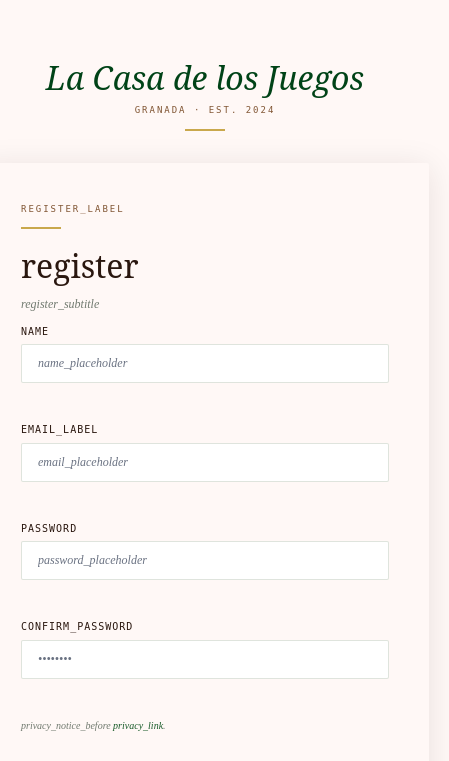
components/auth/RegisterForm.tsx › muestra error si las contraseñas no coinciden
In the field labelled "name": coordinates (205, 364) [21,344,389,383], type "Ana"
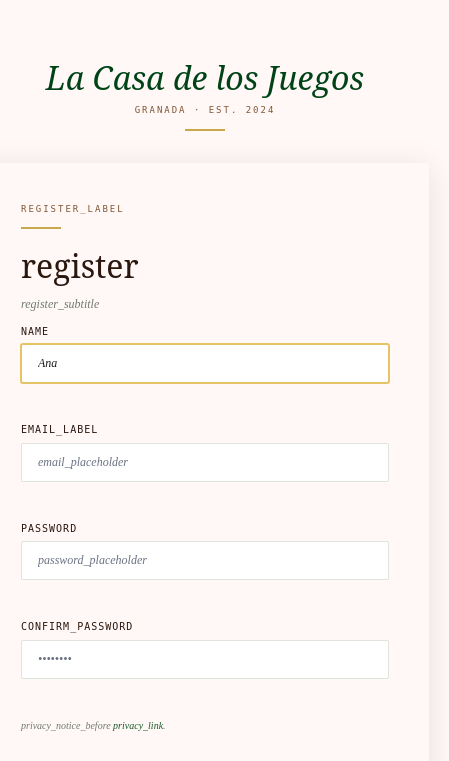
In the field labelled "email_label": coordinates (205, 462) [21,443,389,482], type "ana@test.com"
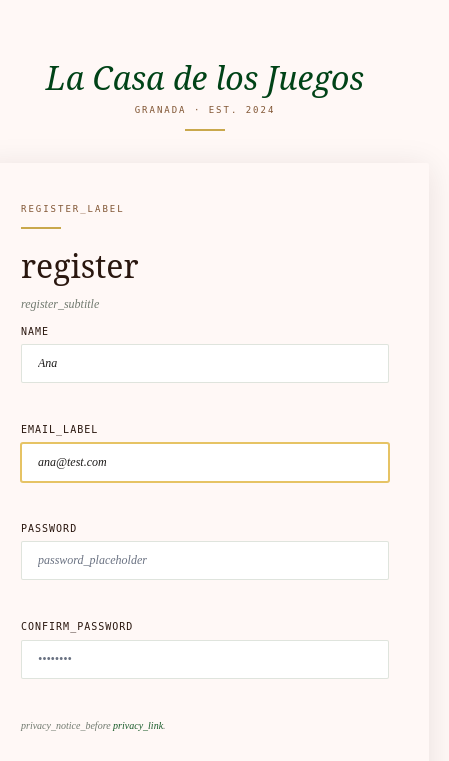
In the password field labelled "password": coordinates (205, 561) [21,541,389,580], type "password123"
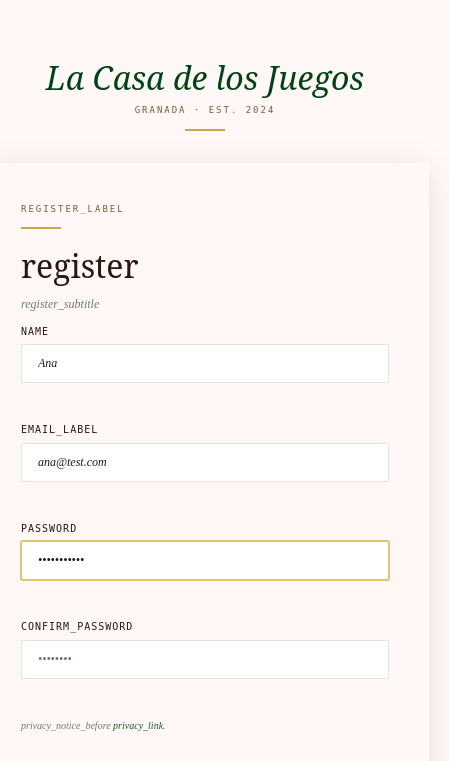
In the password field labelled "confirm_password": coordinates (205, 659) [21,640,389,679], type "password456"
(page scrolled)
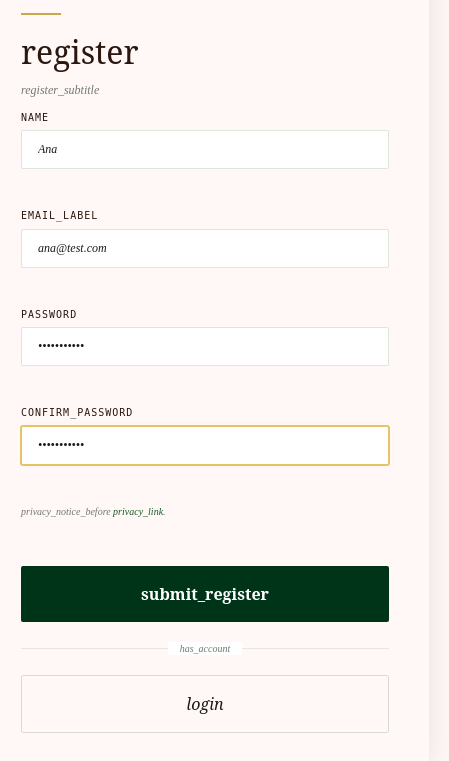
Click the button "submit_register": coordinates (205, 594) [21,566,389,622]
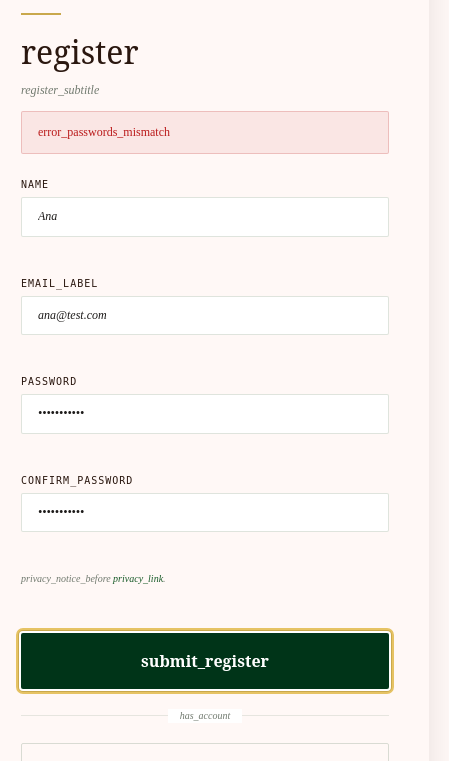
Now the text "error_passwords_mismatch" is shown, box [21,111,389,154]
